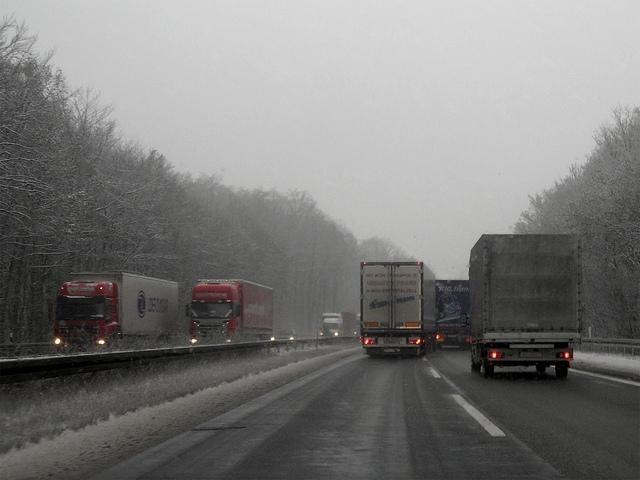car: (270, 328, 302, 340)
truck: (469, 232, 582, 378), (50, 273, 180, 348), (360, 260, 439, 359), (184, 280, 276, 341), (436, 281, 471, 350), (320, 312, 358, 337)
